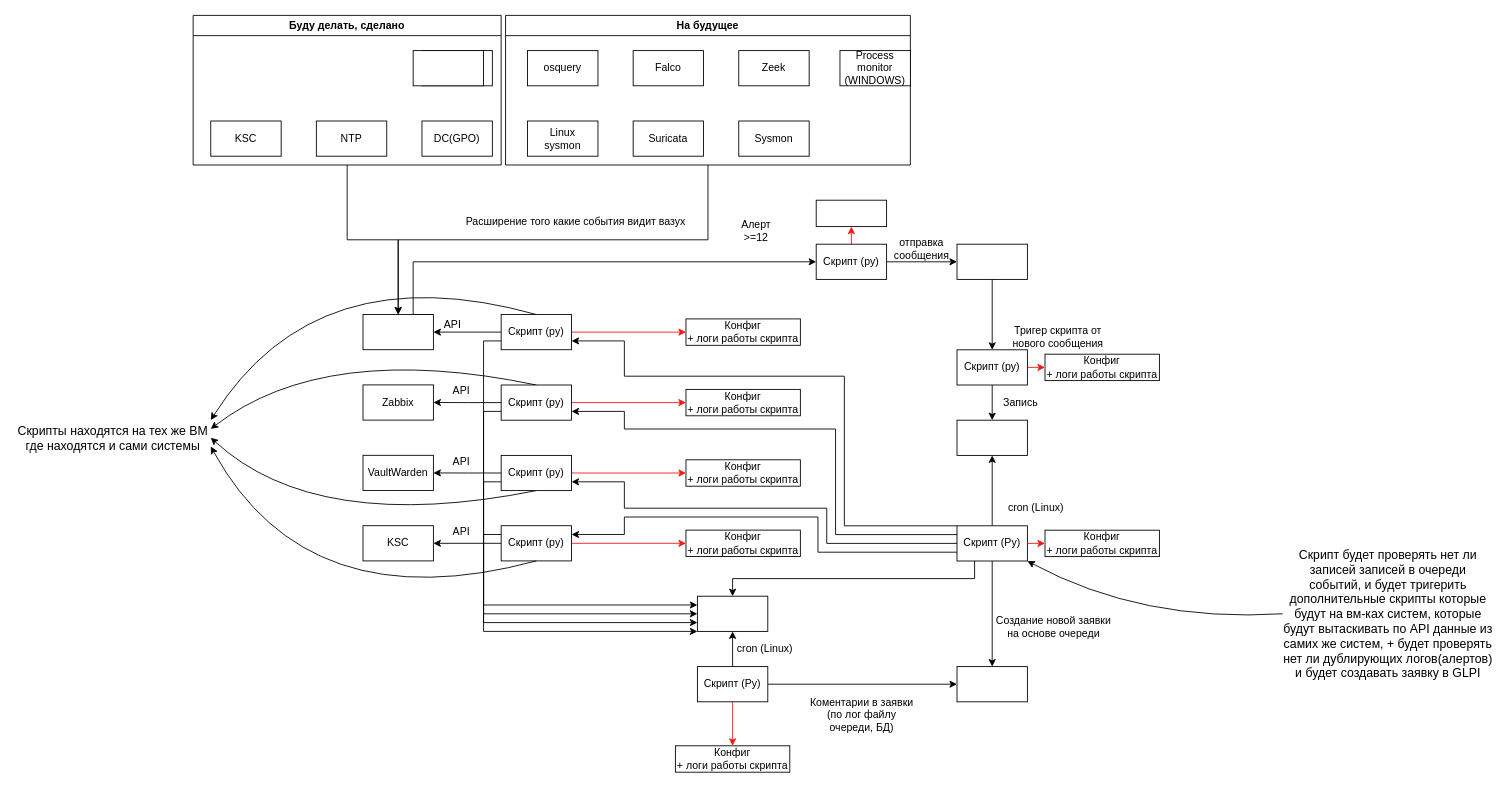
The diagram is 1508 pixels wide and 788 high, and some of its shapes have lost their labels. The centre of each missing label's shape, as x and y in pixels:
GLPI (инциденты): point (991, 684)
MatterMost: point (991, 261)
Wazuh кластер: point (397, 332)
Конфиг: point (851, 213)
Лог файл (очередь событий): point (991, 437)
Лог файл (очередь событий, БД): point (732, 613)
СКУД: point (448, 68)
